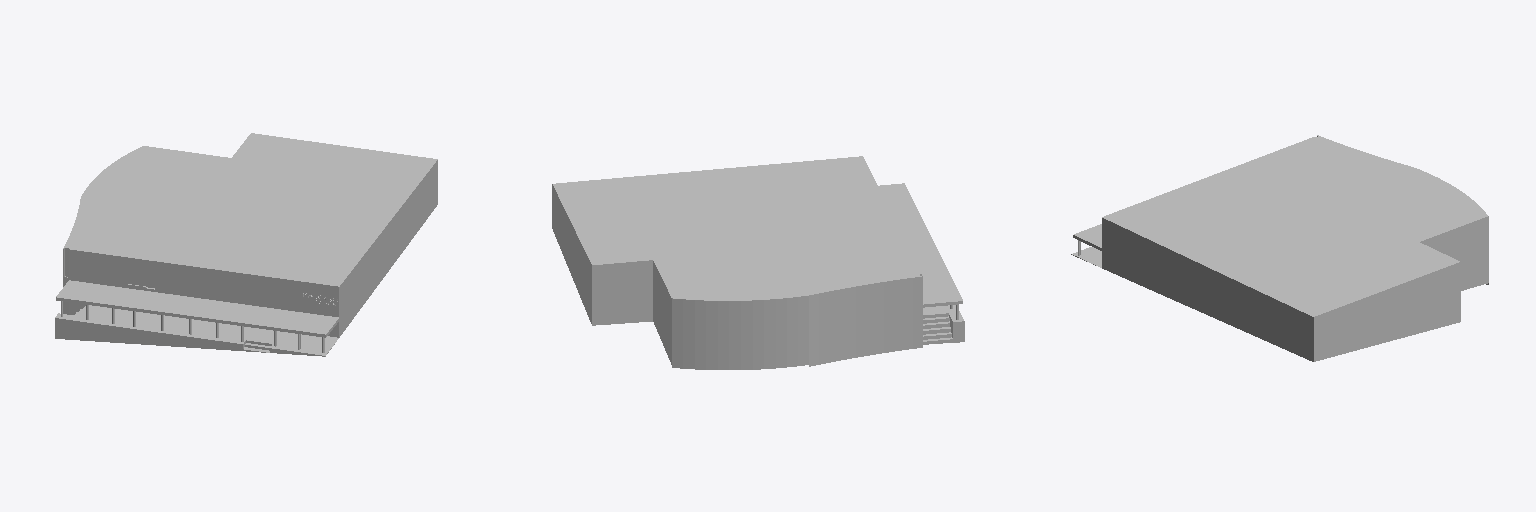
The model's file is Grp 8 Idrettsbygget.obj.
3 views of the same model, side by side, from view 1: azimuth 30°, elevation 25°; view 2: azimuth 150°, elevation 25°; view 3: azimuth 270°, elevation 25° (orthographic).
Visible parts, largest first — view 1: SketchUp.007_ID395, SketchUp.038_ID2017, SketchUp.036_ID1991, SketchUp.001_ID320, SketchUp.002_ID333, SketchUp_ID307, SketchUp.034_ID1965; view 2: SketchUp.007_ID395, SketchUp.006_ID382, SketchUp.003_ID346, SketchUp.036_ID1991, SketchUp.004_ID359, SketchUp.002_ID333, SketchUp.008_ID408; view 3: SketchUp.007_ID395, SketchUp.001_ID320, SketchUp.004_ID359, SketchUp.008_ID408.
Boxes of the visible parts, x1=… form: SketchUp.007_ID395: x1=63, y1=133, x2=437, y2=286; SketchUp.038_ID2017: x1=69, y1=249, x2=338, y2=316; SketchUp.036_ID1991: x1=56, y1=280, x2=338, y2=334; SketchUp.001_ID320: x1=325, y1=160, x2=437, y2=356; SketchUp.002_ID333: x1=55, y1=305, x2=338, y2=355; SketchUp_ID307: x1=55, y1=318, x2=324, y2=356; SketchUp.034_ID1965: x1=56, y1=297, x2=325, y2=337; SketchUp.007_ID395: x1=553, y1=156, x2=921, y2=300; SketchUp.006_ID382: x1=672, y1=276, x2=922, y2=369; SketchUp.003_ID346: x1=592, y1=260, x2=652, y2=325; SketchUp.036_ID1991: x1=878, y1=183, x2=962, y2=304; SketchUp.004_ID359: x1=552, y1=184, x2=591, y2=323; SketchUp.002_ID333: x1=923, y1=305, x2=964, y2=344; SketchUp.008_ID408: x1=653, y1=261, x2=671, y2=364; SketchUp.007_ID395: x1=1102, y1=135, x2=1487, y2=316; SketchUp.001_ID320: x1=1071, y1=218, x2=1313, y2=361; SketchUp.004_ID359: x1=1314, y1=262, x2=1460, y2=361; SketchUp.008_ID408: x1=1420, y1=216, x2=1488, y2=290.
Size of the model in its own units: 64.38 by 11.11 by 58.45.